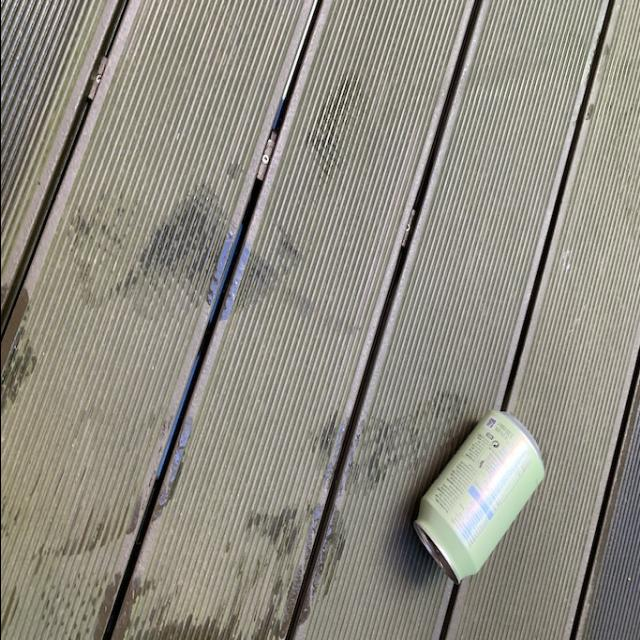Aluminum Can: (410, 405, 550, 583)
